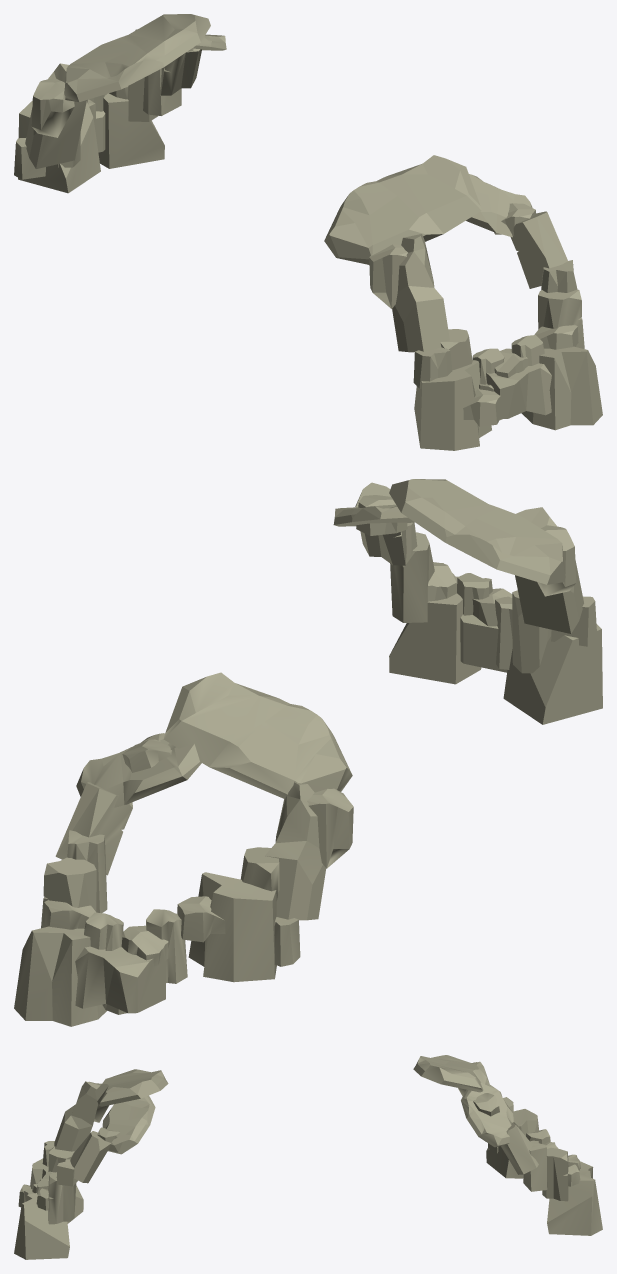
The model's file is Rock.fbx.
The picture shows the model from 3 angles, top to bottom: view 1: azimuth 30°, elevation 25°; view 2: azimuth 150°, elevation 25°; view 3: azimuth 270°, elevation 25°; orthographic projection. The views are drawn at different scales.
Visible parts, largest first — view 1: Rock_Floor_01.004; view 2: Rock_Floor_01.004; view 3: Rock_Floor_01.004.
Part boxes in pixels (left/top/right/bottom): Rock_Floor_01.004: left=14, top=14, right=602, bottom=450; Rock_Floor_01.004: left=14, top=479, right=602, bottom=1026; Rock_Floor_01.004: left=14, top=1055, right=602, bottom=1259.
Size of the model in its own units: 265 by 210 by 727.
